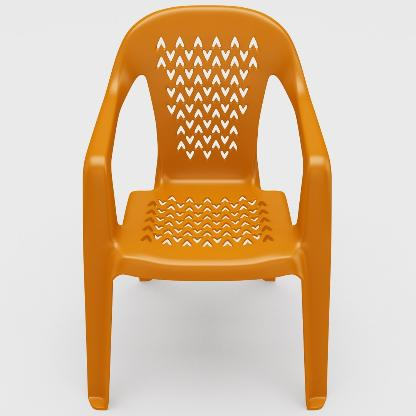chair: (75, 0, 347, 416)
